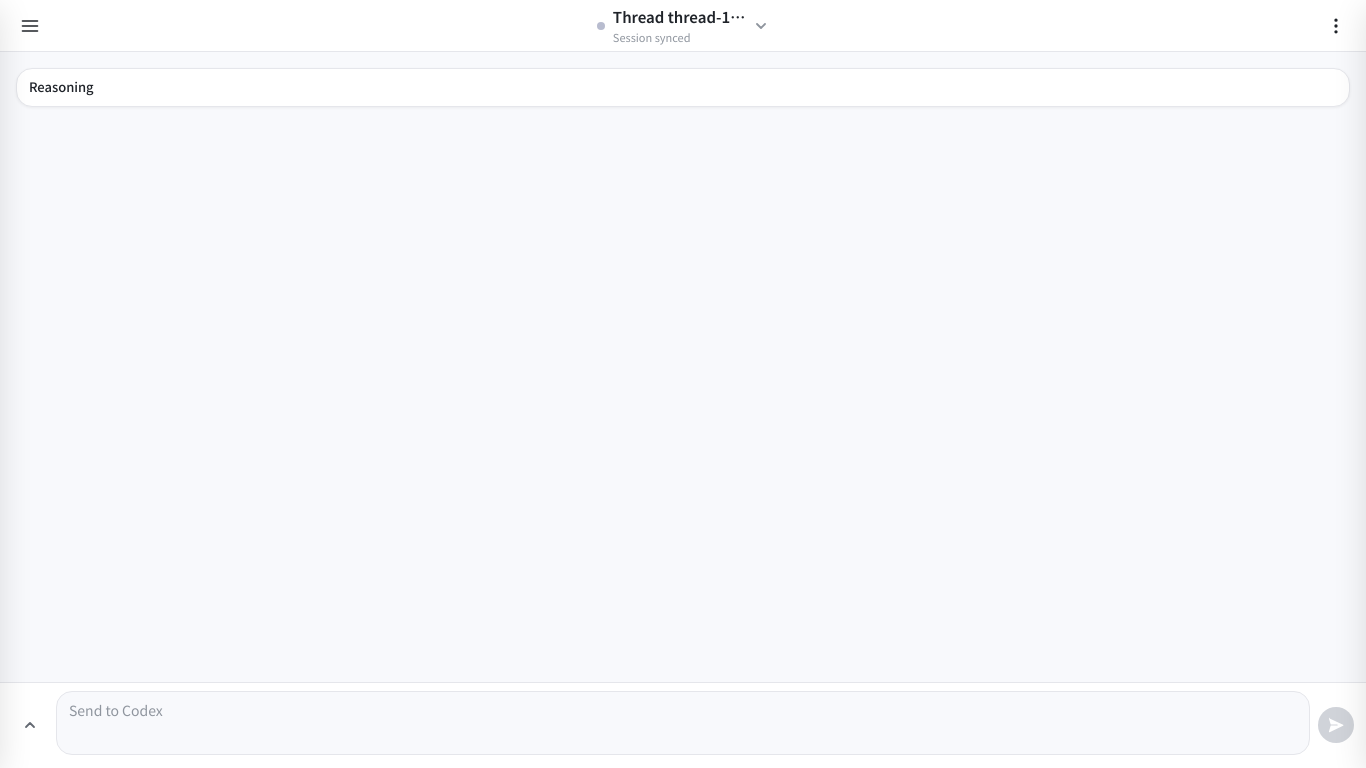
ChatTranscript markdown integration › renders empty reasoning rows as collapsed reasoning cards with placeholder text after expansion
Expected: the text "No available Reasoning text." is not shown
Step 1. Click the heading "Reasoning" → click(61, 86), box [29,77,94,96]
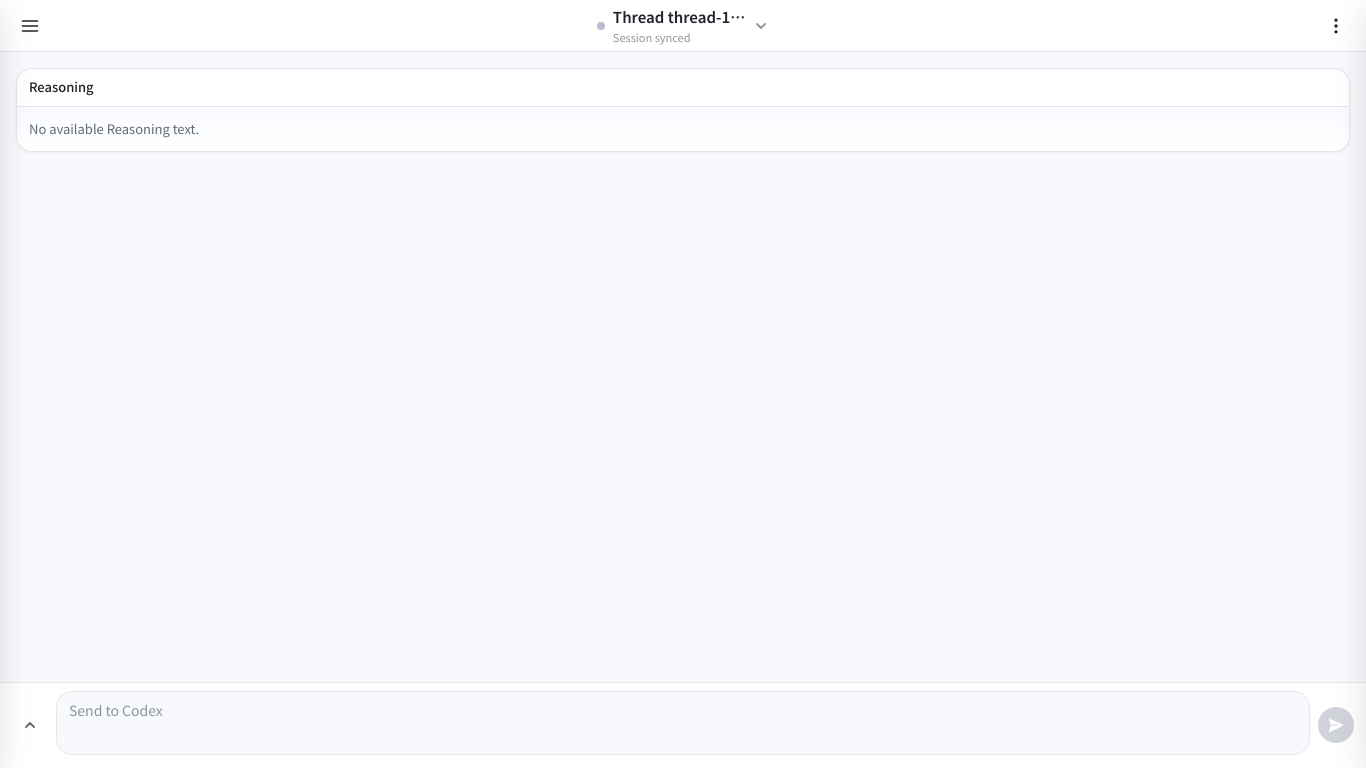
Expected: the text "No available Reasoning text." is shown, [29,119,199,138]
